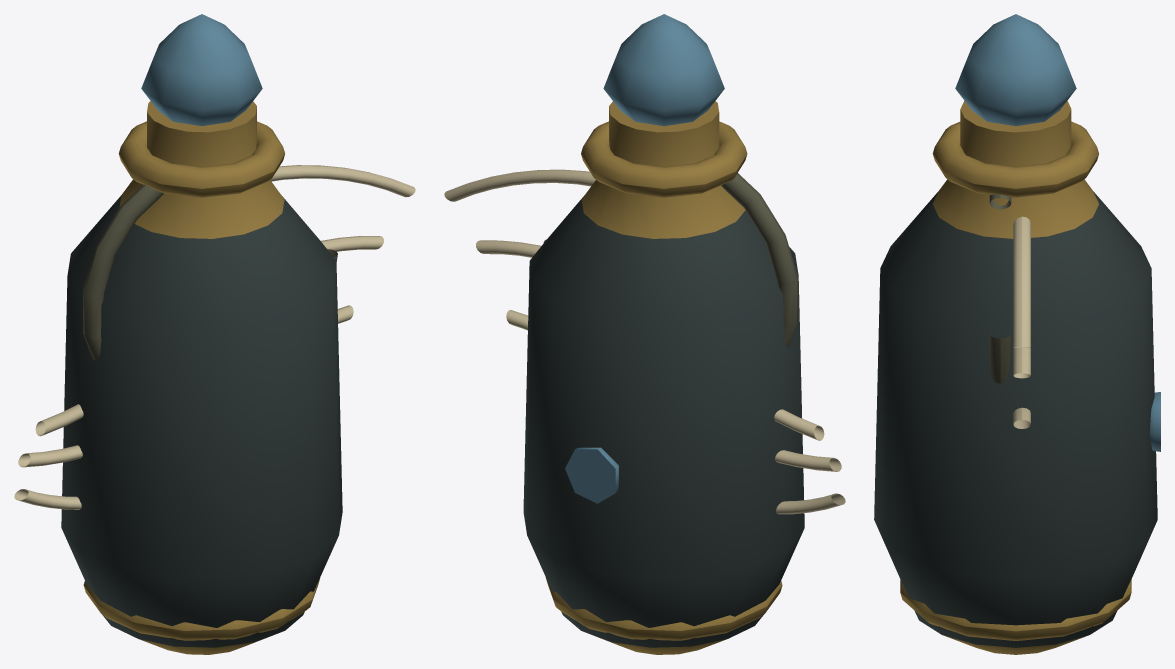
Rendered from vial_of_second_breath.obj.
3 renders of one model, left to right at view 1: azimuth 30°, elevation 25°; view 2: azimuth 150°, elevation 25°; view 3: azimuth 270°, elevation 25°, orthographic.
Parts seen in each view (by area): view 1: vial_of_second_breath; view 2: vial_of_second_breath; view 3: vial_of_second_breath.
Boxes of the visible parts, x1=… form: vial_of_second_breath: x1=14, y1=14, x2=415, y2=654; vial_of_second_breath: x1=444, y1=14, x2=845, y2=654; vial_of_second_breath: x1=874, y1=14, x2=1160, y2=654.
Bounding box in the file's own units: 1.49 × 2.21 × 0.93.
